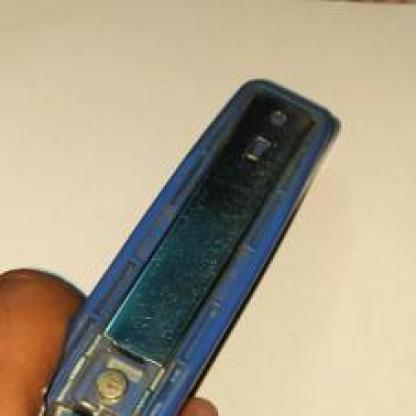stapler: (49, 72, 344, 414)
